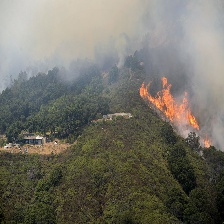fire: (141, 78, 214, 148)
smoke: (2, 1, 224, 87)
